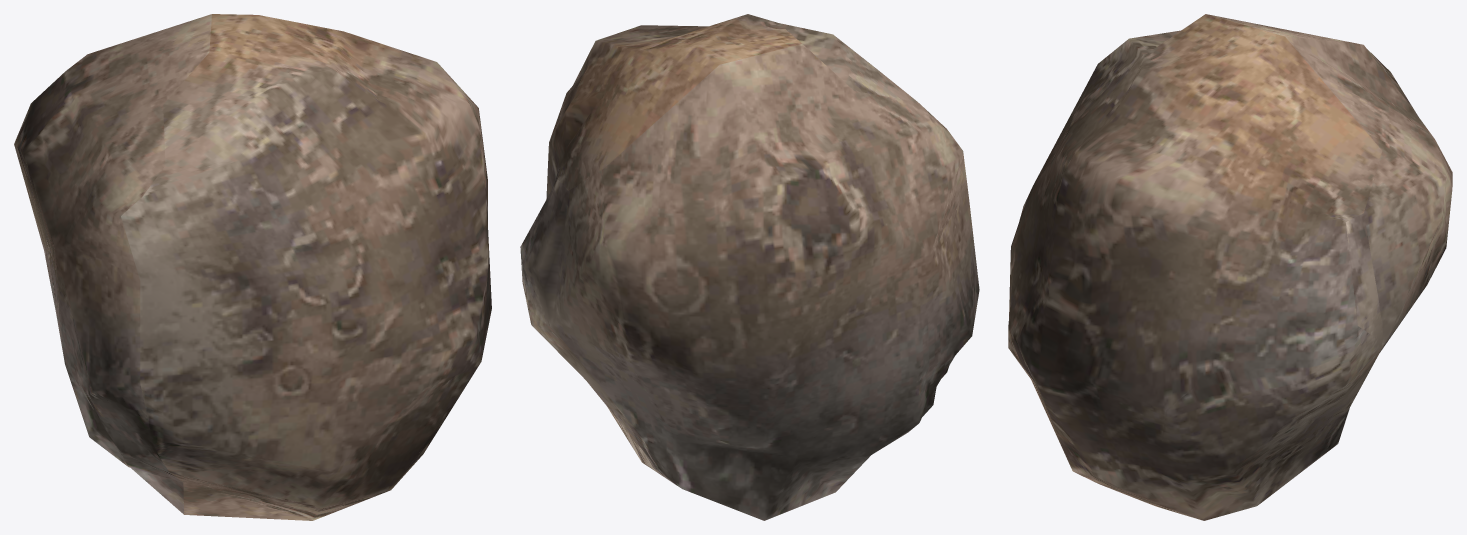
The model's file is asteroid_set_01_02.glb.
The picture shows the model from 3 angles, left to right: view 1: azimuth 30°, elevation 25°; view 2: azimuth 150°, elevation 25°; view 3: azimuth 270°, elevation 25°; orthographic projection. The views are drawn at different scales.
Visible parts, largest first — view 1: Asteroid_02_LOD0; view 2: Asteroid_02_LOD0; view 3: Asteroid_02_LOD0.
Boxes of the visible parts, bbox=[...] form: Asteroid_02_LOD0: bbox=[14, 14, 491, 520]; Asteroid_02_LOD0: bbox=[520, 14, 979, 520]; Asteroid_02_LOD0: bbox=[1008, 14, 1452, 520].
Size of what is drawn, in the model's own units: 2.61 by 2.99 by 2.65.
1 material, 1 textured.
